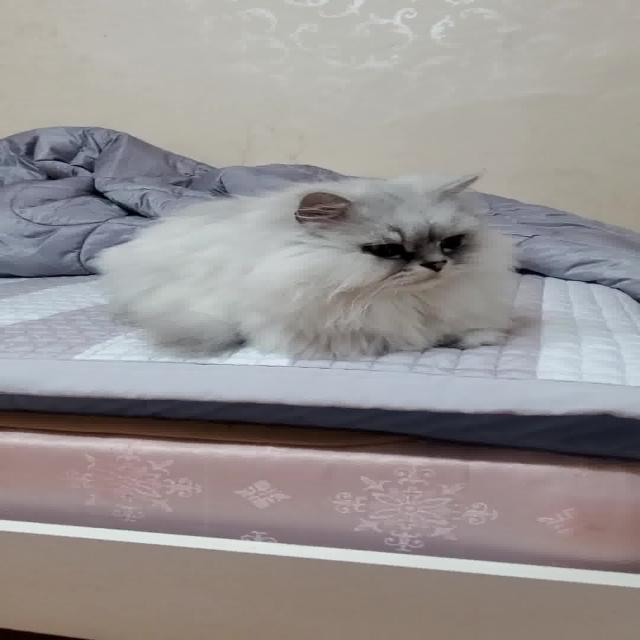cat: (80, 163, 558, 369)
